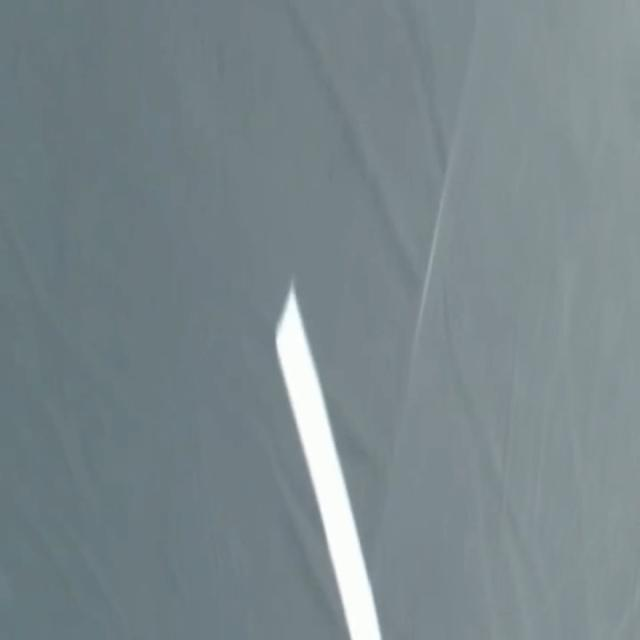center: (276, 283, 381, 639)
